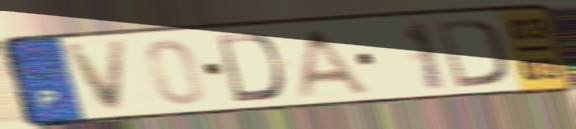0: (144, 37, 206, 107)
1: (399, 18, 452, 91)
A: (292, 26, 374, 100)
D: (433, 16, 510, 90), (214, 31, 287, 104)
V: (62, 37, 133, 115)
